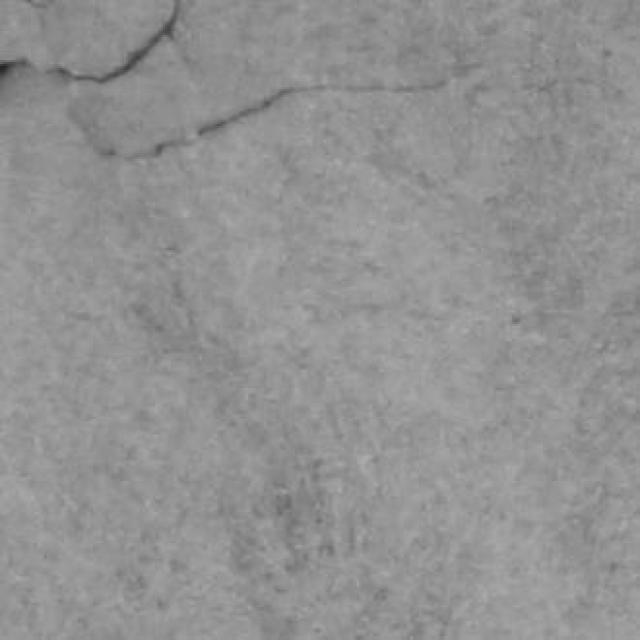crack: (128, 78, 449, 159), (53, 0, 180, 83), (66, 0, 180, 83)
